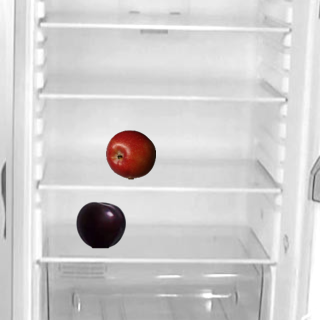Apple Braeburn: (105, 129, 155, 179)
Cherry Wax Black: (75, 199, 125, 249)
